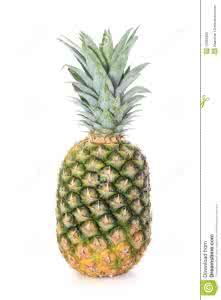pineapple: (48, 24, 160, 279)
